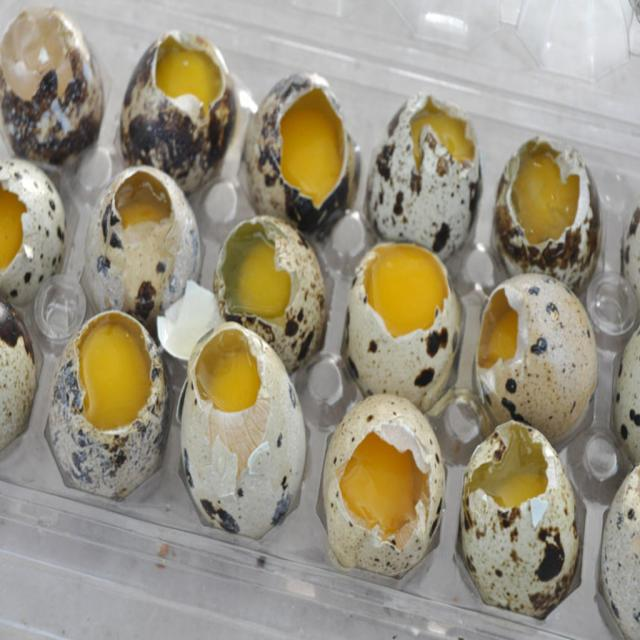Egg: (45, 26, 236, 502), (176, 66, 360, 540), (320, 90, 485, 584), (457, 130, 602, 619), (0, 2, 105, 450)
